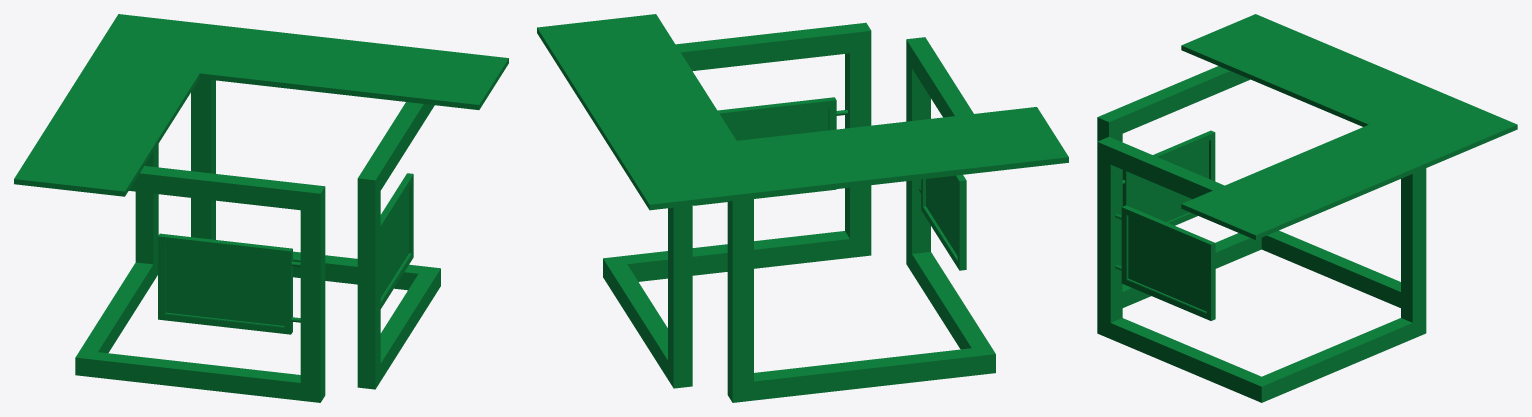
File: tv-studio.obj
3 renders of one model, left to right at view 1: azimuth 30°, elevation 25°; view 2: azimuth 150°, elevation 25°; view 3: azimuth 270°, elevation 25°, orthographic. The views are drawn at different scales.
Parts seen in each view (by area): view 1: News_Desk_3_1, News_Desk_3_7, News_Desk_3_5, News_Desk_3_2, News_Desk_3_4, News_Desk_3_3; view 2: News_Desk_3_1, News_Desk_3_7, News_Desk_3_5, News_Desk_3_2, News_Desk_3_4; view 3: News_Desk_3_1, News_Desk_3_7, News_Desk_3_5, News_Desk_3_2, News_Desk_3_4, News_Desk_3_3.
Boxes of the visible parts, left/top/right/bottom form: News_Desk_3_1: left=14, top=14, right=508, bottom=196; News_Desk_3_7: left=75, top=78, right=440, bottom=402; News_Desk_3_5: left=75, top=80, right=440, bottom=402; News_Desk_3_2: left=166, top=188, right=408, bottom=325; News_Desk_3_4: left=158, top=173, right=413, bottom=334; News_Desk_3_3: left=164, top=184, right=411, bottom=327; News_Desk_3_1: left=537, top=14, right=1068, bottom=210; News_Desk_3_7: left=603, top=32, right=995, bottom=402; News_Desk_3_5: left=603, top=22, right=995, bottom=402; News_Desk_3_2: left=723, top=108, right=957, bottom=255; News_Desk_3_4: left=693, top=97, right=966, bottom=270; News_Desk_3_1: left=1181, top=14, right=1517, bottom=239; News_Desk_3_7: left=1098, top=71, right=1425, bottom=402; News_Desk_3_5: left=1097, top=66, right=1426, bottom=402; News_Desk_3_2: left=1128, top=141, right=1208, bottom=311; News_Desk_3_4: left=1115, top=130, right=1215, bottom=320; News_Desk_3_3: left=1126, top=215, right=1206, bottom=312.
Size of what is drawn, in the model's own units: 97.99 by 40.55 by 78.65.
